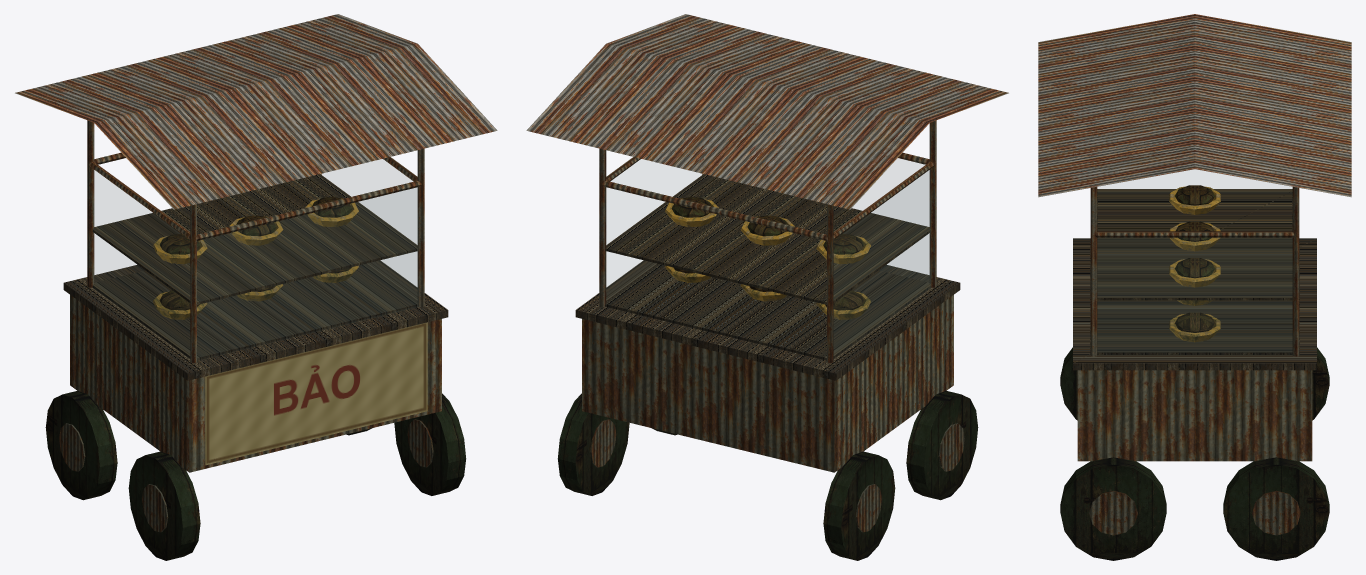
File: food_cart_glass_reduced.glb
The picture shows the model from 3 angles, left to right: view 1: azimuth 30°, elevation 25°; view 2: azimuth 150°, elevation 25°; view 3: azimuth 270°, elevation 25°; orthographic projection.
Visible parts, largest first — view 1: TinRoof, DisplayShelves, FrontBaoSign, TinBody, RubberWheels, Counter, CaseFrame, TransparentGlass, CeramicBowls, WheelHubs, FoodInside; view 2: TinRoof, TinBody, DisplayShelves, RubberWheels, Counter, CaseFrame, TransparentGlass, CeramicBowls, WheelHubs, FoodInside; view 3: TinRoof, DisplayShelves, TinBody, RubberWheels, Counter, CaseFrame, WheelHubs, CeramicBowls, FoodInside.
Part boxes in pixels (x1,y1,x2,y2): TinRoof: [15, 14, 497, 209]; DisplayShelves: [92, 174, 418, 360]; FrontBaoSign: [205, 322, 427, 465]; TinBody: [70, 295, 441, 472]; RubberWheels: [45, 390, 466, 560]; Counter: [63, 260, 448, 380]; CaseFrame: [87, 120, 424, 362]; TransparentGlass: [358, 188, 417, 300]; CeramicBowls: [153, 198, 358, 319]; WheelHubs: [59, 419, 433, 532]; FoodInside: [159, 197, 352, 310]; TinRoof: [526, 14, 1008, 209]; TinBody: [582, 295, 953, 472]; DisplayShelves: [605, 174, 931, 360]; RubberWheels: [557, 390, 978, 560]; Counter: [575, 260, 960, 380]; CaseFrame: [599, 120, 936, 362]; TransparentGlass: [871, 170, 929, 282]; CeramicBowls: [665, 198, 870, 319]; WheelHubs: [590, 419, 964, 532]; FoodInside: [671, 197, 864, 310]; TinRoof: [1038, 14, 1351, 197]; DisplayShelves: [1097, 189, 1292, 354]; TinBody: [1077, 370, 1312, 461]; RubberWheels: [1060, 347, 1329, 560]; Counter: [1073, 238, 1316, 370]; CaseFrame: [1090, 187, 1299, 356]; WheelHubs: [1089, 490, 1300, 535]; CeramicBowls: [1169, 186, 1220, 342]; FoodInside: [1174, 185, 1215, 332].
Bounding box in the file's own units: 1.65 × 1.99 × 1.4.
Materials: 11 (10 with a texture image).
